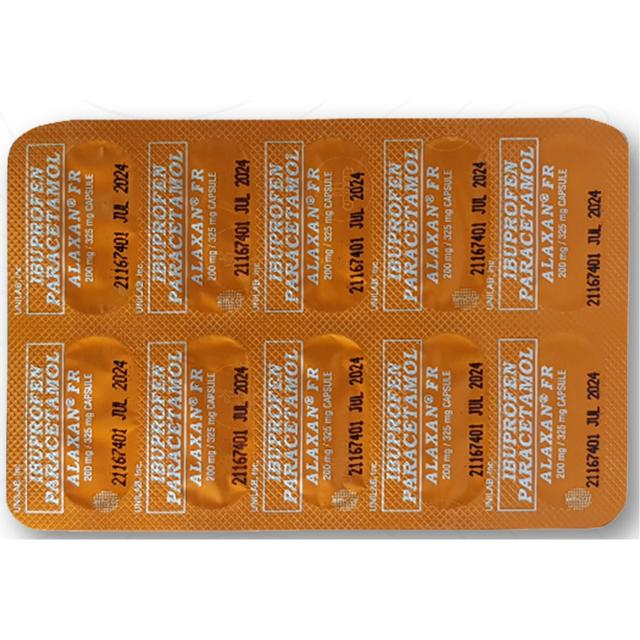blister: (2, 121, 633, 537)
